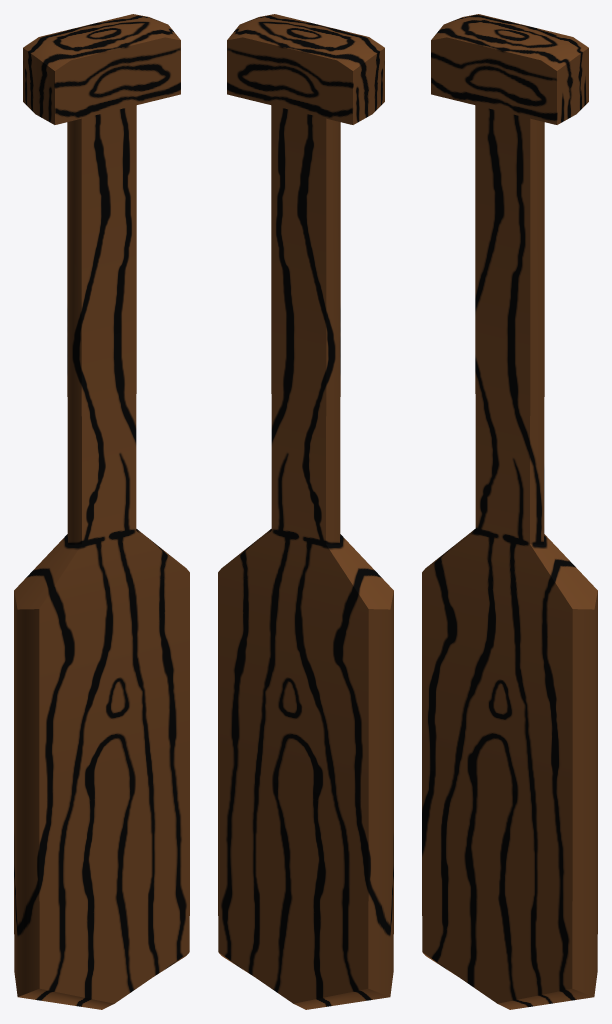
File: Paddle_B.FBX
The picture shows the model from 3 angles, left to right: view 1: azimuth 30°, elevation 25°; view 2: azimuth 150°, elevation 25°; view 3: azimuth 330°, elevation 25°; orthographic projection.
Parts seen in each view (by area): view 1: Paddle_B; view 2: Paddle_B; view 3: Paddle_B.
Part boxes in pixels (x1,y1,x2,y2): Paddle_B: [14, 14, 189, 1009]; Paddle_B: [218, 14, 393, 1009]; Paddle_B: [422, 14, 597, 1009].
Size of the model in its own units: 147 by 48.26 by 814.
1 material, 1 textured.
